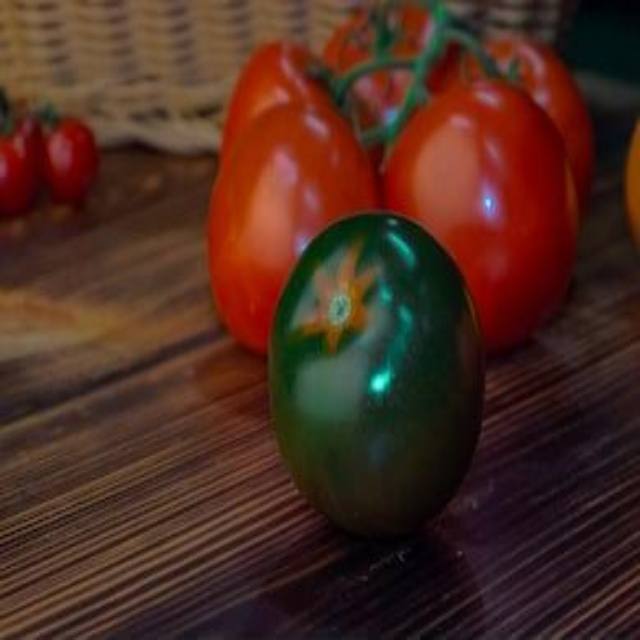tomato: (262, 212, 487, 539), (196, 44, 369, 350), (388, 79, 576, 347)
